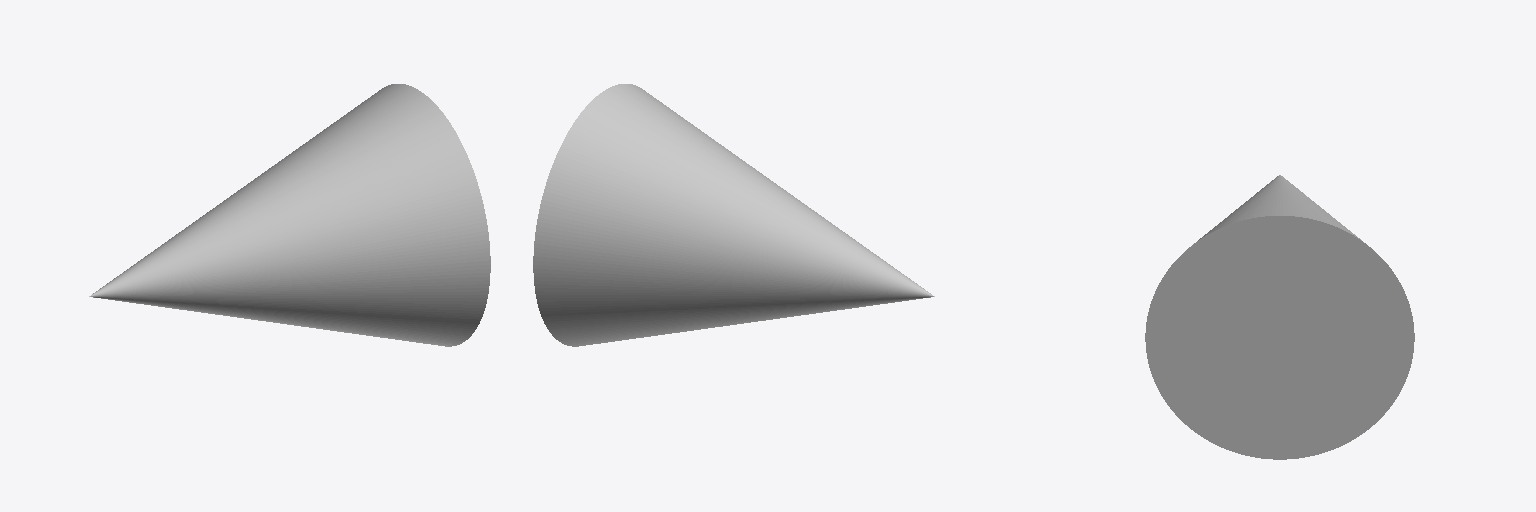
File: mid40-fov.obj
The picture shows the model from 3 angles: view 1: azimuth 30°, elevation 25°; view 2: azimuth 150°, elevation 25°; view 3: azimuth 270°, elevation 25°; orthographic projection.
Parts seen in each view (by area): view 1: NONE001; view 2: NONE001; view 3: NONE001.
Boxes of the visible parts, <box> form: NONE001: <box>89,84,490,346</box>; NONE001: <box>533,84,934,346</box>; NONE001: <box>1145,175,1414,459</box>.
Bounding box in the file's own units: 10519 × 7326 × 7326.